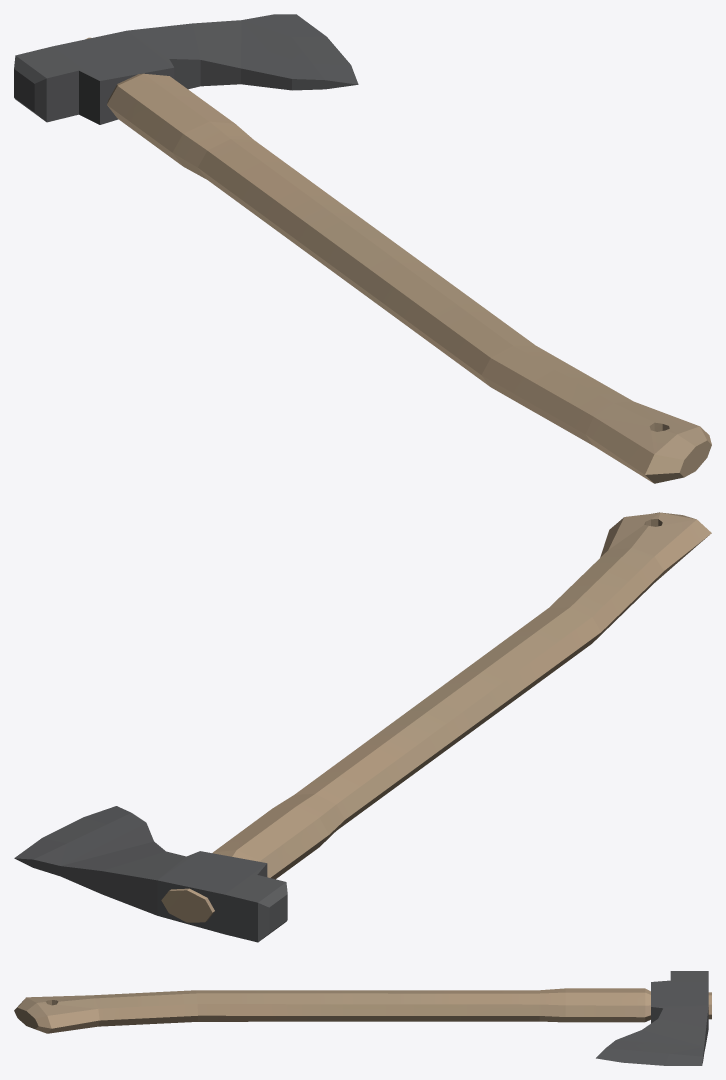
File: axe.glb
3 renders of one model, top to bottom at view 1: azimuth 30°, elevation 25°; view 2: azimuth 150°, elevation 25°; view 3: azimuth 270°, elevation 25°, orthographic. The views are drawn at different scales.
Size of the model in its own units: 0.3206 by 0.0495 by 1.13.
Materials: 1 (1 with a texture image).
